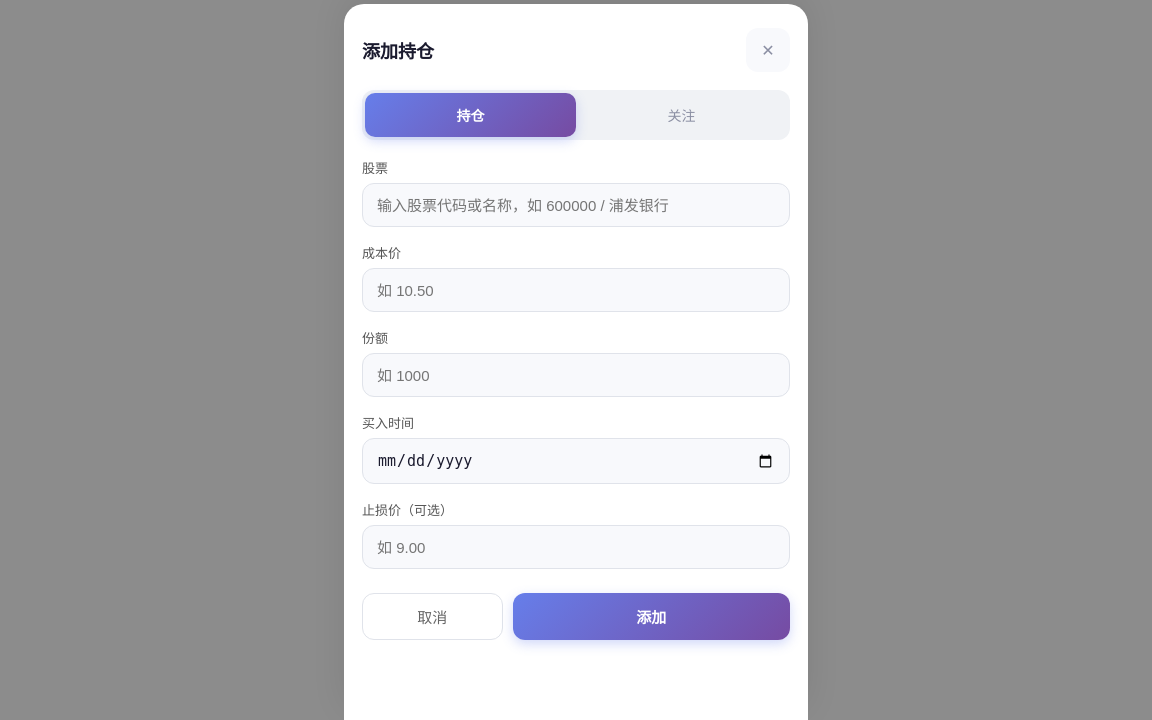
it: PositionForm - Add Mode › hides holding-specific fields when watching type selected
The image size is (1152, 720).
Click the button "关注" at (682, 115), box [576, 93, 787, 137]
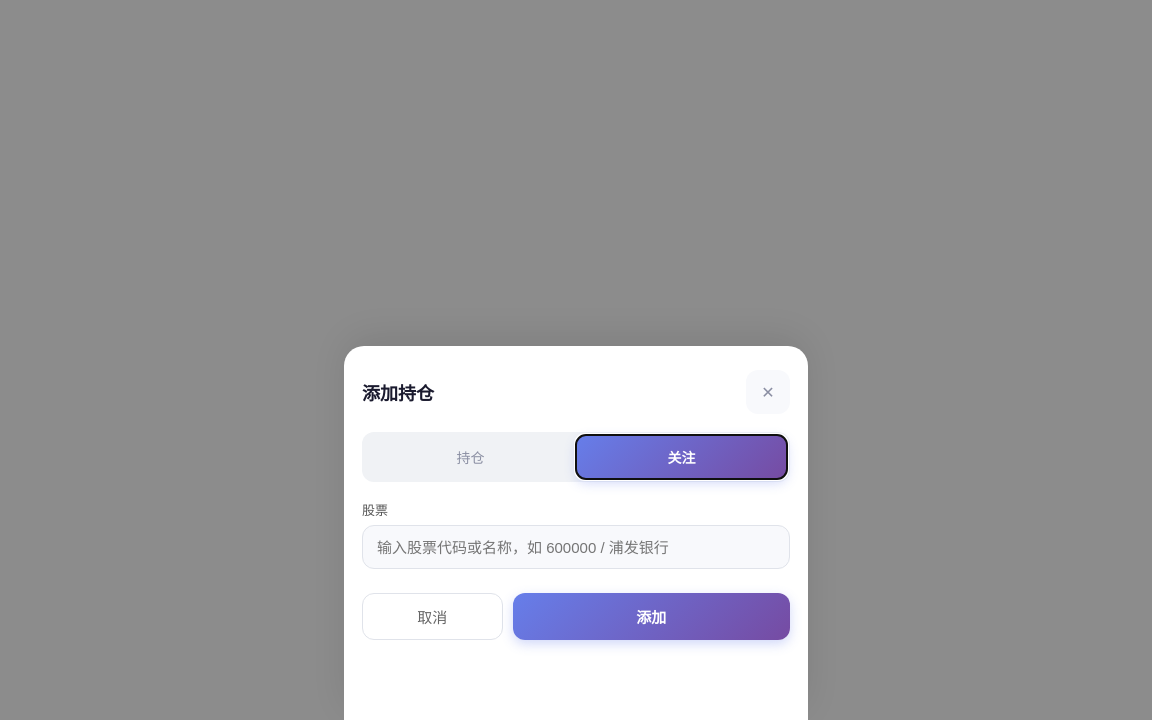
Check: the label labelled "成本价" is gone
Check: the label labelled "份额" is gone
Check: the label labelled "买入时间" is gone
